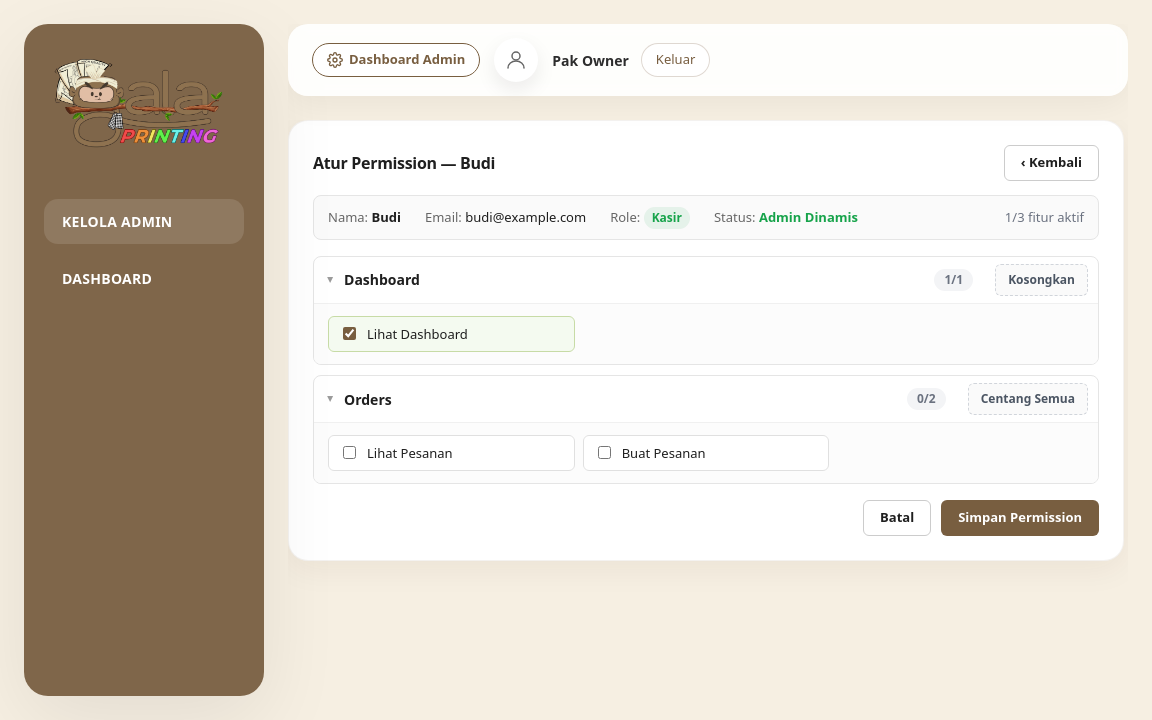
Permission checklist — save › collapses/expands a category accordion
Expected: the checkbox labelled "Lihat Dashboard" is shown, 343,327 -> 356,340
Click the button "▸ Dashboard 1/1" at x=382, y=280, box 314,257 -> 987,303
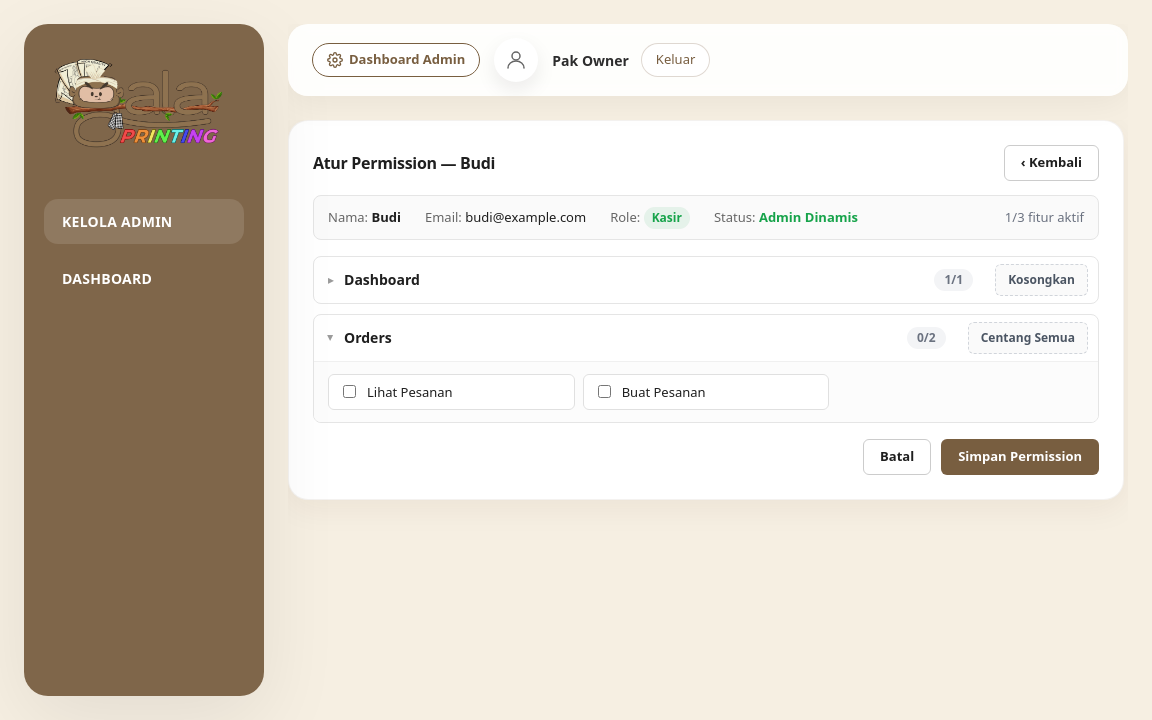
Now the text labelled "Lihat Dashboard" is gone
